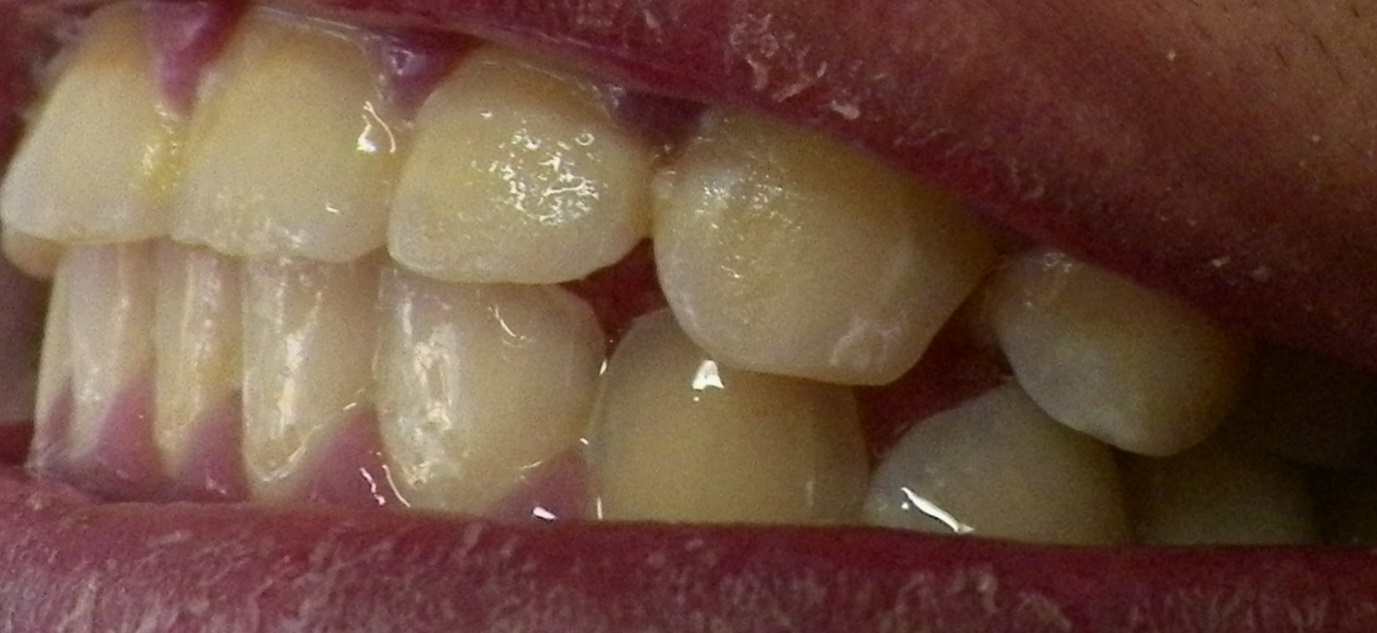boca: (20, 14, 1274, 550)
